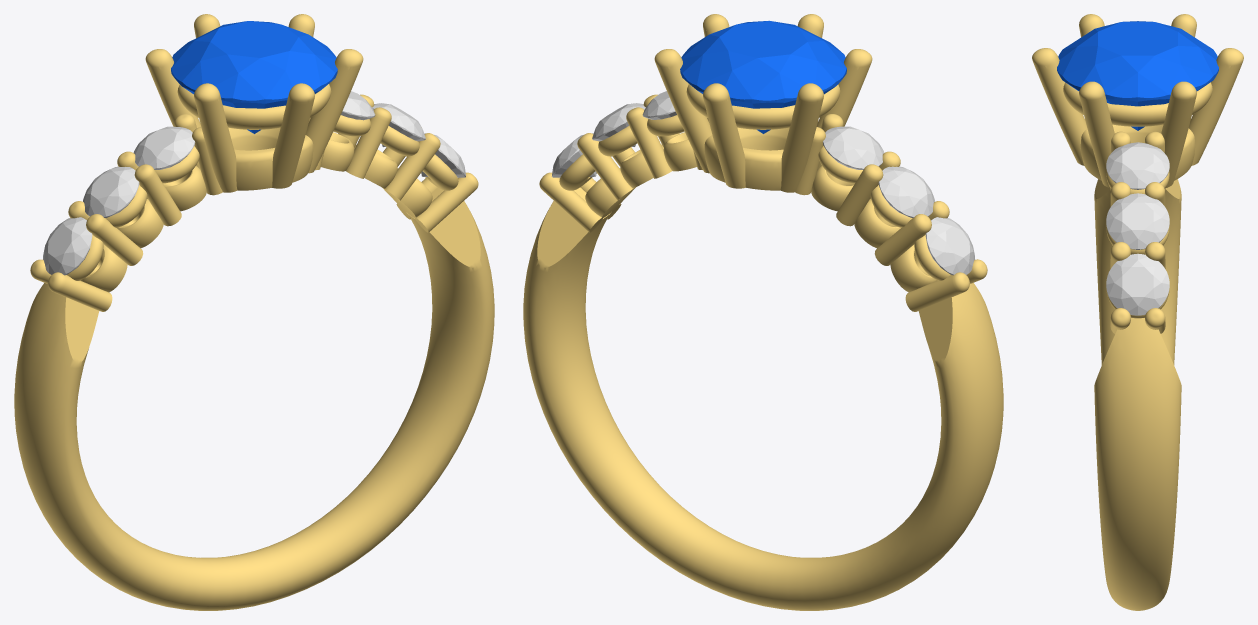
File: bluesapphire-round-yellowgold-6prong-taperedband-3stone.glb
3 renders of one model, left to right at view 1: azimuth 30°, elevation 25°; view 2: azimuth 150°, elevation 25°; view 3: azimuth 270°, elevation 25°, orthographic. The views are drawn at different scales.
Visible parts, largest first — view 1: metal, stone, side.002, side.001, side, side.004, side.003; view 2: metal, stone, side.002, side.001, side, side.004, side.003; view 3: metal, stone, side.005, side.004, side.003.
Part boxes in pixels (x1=…): metal: x1=14, y1=14, x2=494, y2=610; stone: x1=171, y1=21, x2=337, y2=133; side.002: x1=43, y1=217, x2=92, y2=275; side.001: x1=83, y1=166, x2=139, y2=217; side: x1=133, y1=126, x2=195, y2=169; side.004: x1=372, y1=103, x2=425, y2=147; side.003: x1=341, y1=91, x2=375, y2=120; metal: x1=523, y1=14, x2=1003, y2=610; stone: x1=680, y1=20, x2=846, y2=133; side.002: x1=925, y1=217, x2=974, y2=275; side.001: x1=878, y1=166, x2=934, y2=217; side: x1=823, y1=126, x2=884, y2=169; side.004: x1=592, y1=103, x2=645, y2=146; side.003: x1=642, y1=91, x2=676, y2=119; metal: x1=1032, y1=14, x2=1243, y2=610; stone: x1=1057, y1=21, x2=1218, y2=130; side.005: x1=1106, y1=253, x2=1169, y2=315; side.004: x1=1106, y1=193, x2=1169, y2=249; side.003: x1=1106, y1=142, x2=1169, y2=189.
Bounding box in the file's own units: 20.49 × 23.81 × 8.35.
